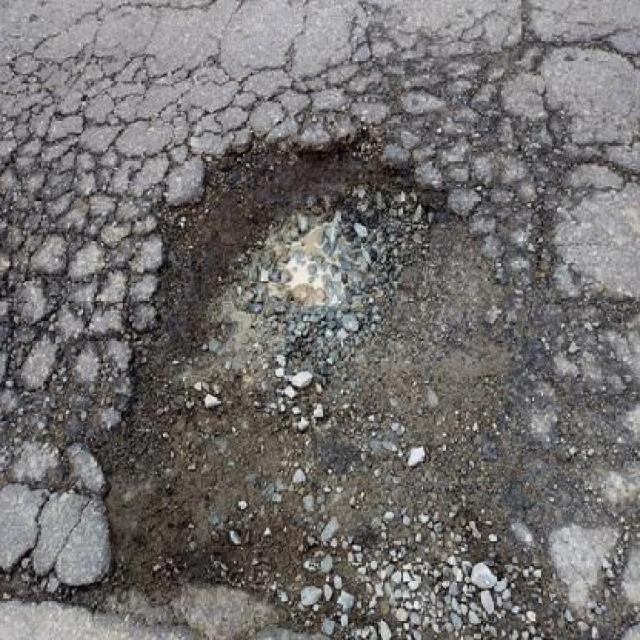Pothole: (91, 111, 542, 612)
